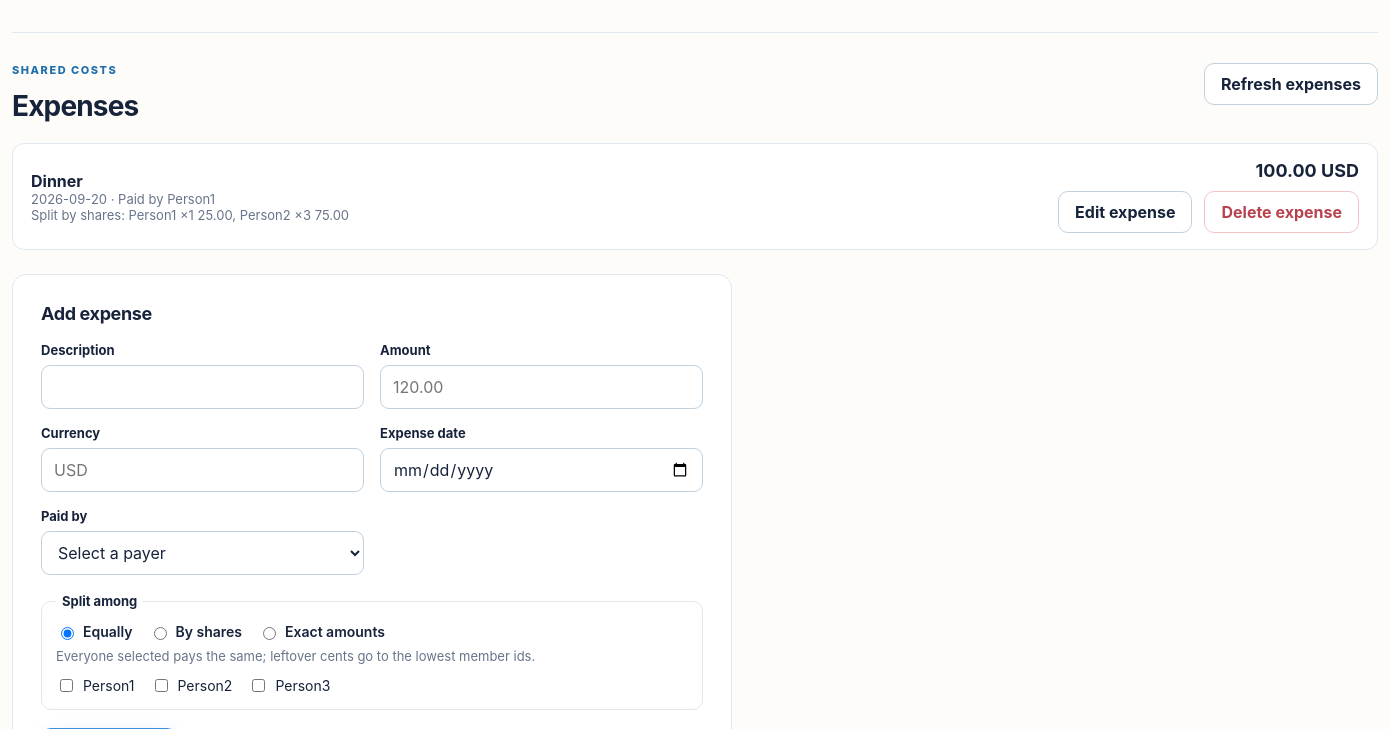
Scenario: opens an existing shares expense with its weights filled in
Click the button "Edit expense" at x=1125, y=212, box [1058,191,1192,233]
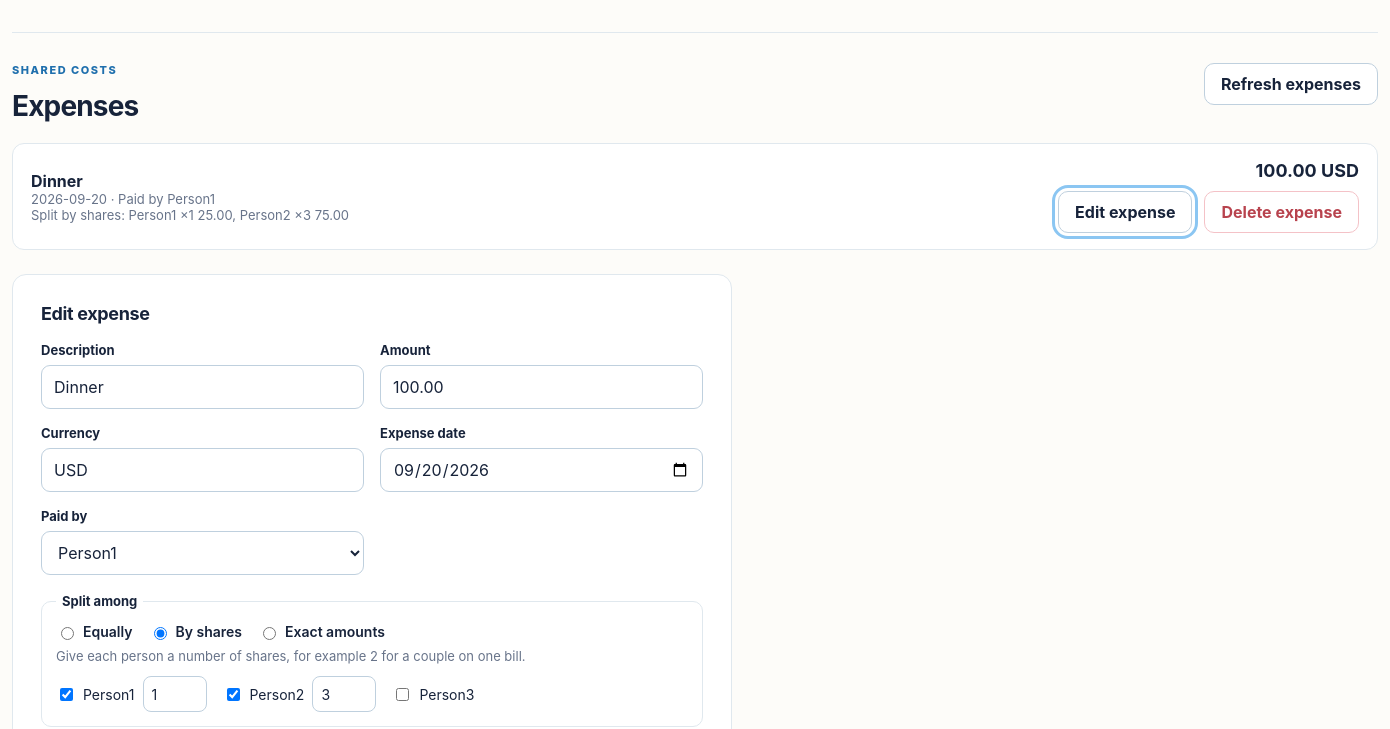
Now the radio button labelled "By shares" is checked, box [154,626,166,640]
Now the field named "Person2 shares" holds "3", box [312,676,376,712]
